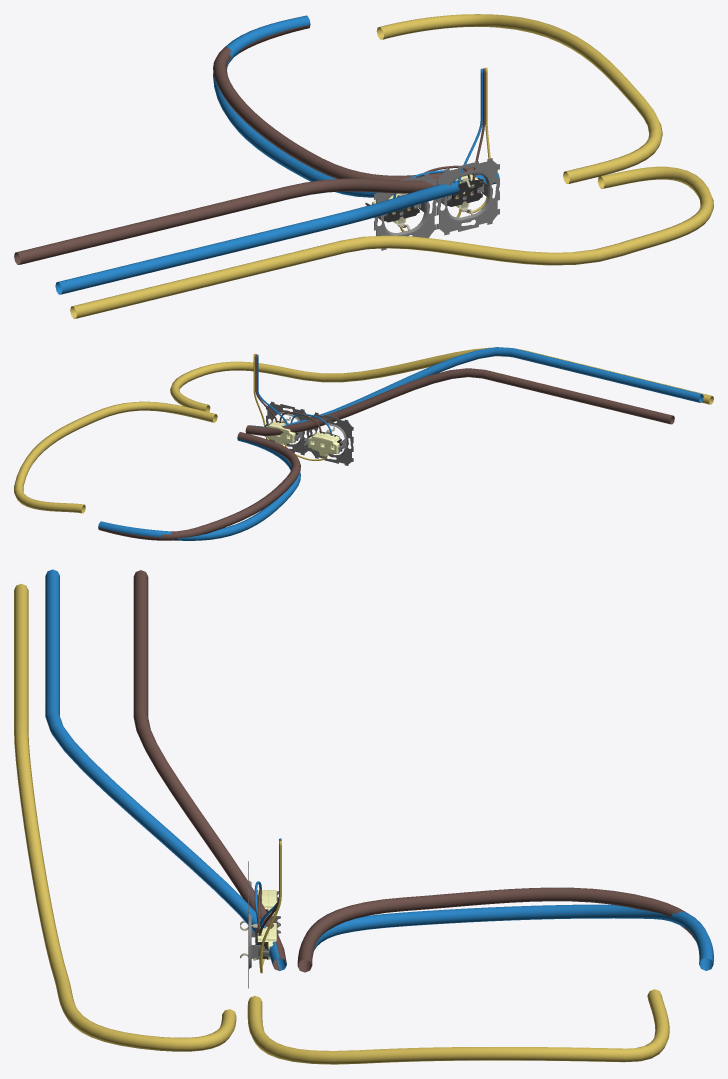
File: Sketchfab_2018_09_30_16_13_17.fbx
The picture shows the model from 3 angles, top to bottom: view 1: azimuth 30°, elevation 25°; view 2: azimuth 150°, elevation 25°; view 3: azimuth 270°, elevation 25°; orthographic projection. The views are drawn at different scales.
Visible parts, largest first — view 1: BezierCurve.003, BezierCurve.005, BezierCurve.004, Metal_Frame.001, Metal_Frame, Black_Plastic_Shield.001; view 2: BezierCurve.003, BezierCurve.005, BezierCurve.004, Metal_Frame, Metal_Frame.001, White_Plasti_Back, White_Plasti_Back.001; view 3: BezierCurve.003, BezierCurve.004, BezierCurve.005.
Part boxes in pixels (left/top/right/bottom): BezierCurve.003: left=70, top=14, right=713, bottom=318; BezierCurve.005: left=14, top=24, right=479, bottom=264; BezierCurve.004: left=55, top=15, right=499, bottom=294; Metal_Frame.001: left=437, top=158, right=499, bottom=235; Metal_Frame: left=374, top=173, right=436, bottom=250; Black_Plastic_Shield.001: left=436, top=178, right=483, bottom=206; BezierCurve.003: left=14, top=347, right=713, bottom=513; BezierCurve.005: left=98, top=368, right=674, bottom=540; BezierCurve.004: left=98, top=347, right=703, bottom=540; Metal_Frame: left=309, top=412, right=353, bottom=465; Metal_Frame.001: left=266, top=401, right=309, bottom=455; White_Plasti_Back: left=308, top=434, right=339, bottom=456; White_Plasti_Back.001: left=264, top=423, right=295, bottom=445; BezierCurve.003: left=14, top=583, right=669, bottom=1064; BezierCurve.004: left=45, top=569, right=713, bottom=970; BezierCurve.005: left=133, top=570, right=713, bottom=972.
Bounding box in the file's own units: 735 × 135 × 566.
